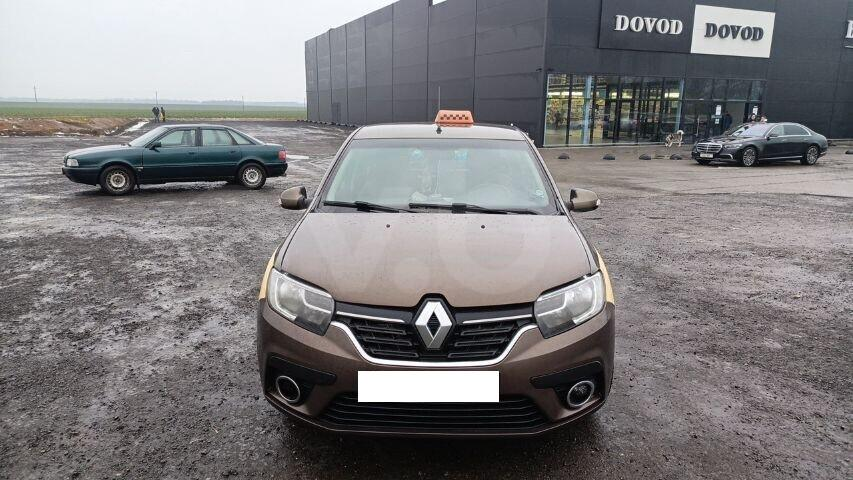Logan_2018: (259, 117, 619, 438)
